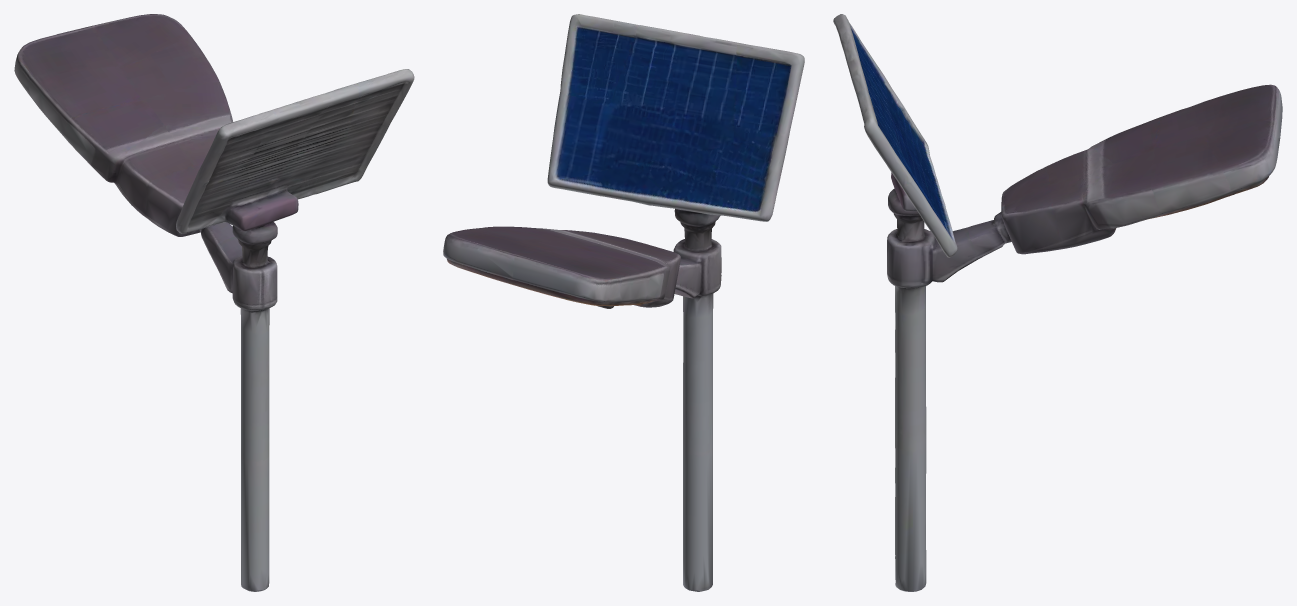
File: solar_streetlight.glb
3 renders of one model, left to right at view 1: azimuth 30°, elevation 25°; view 2: azimuth 150°, elevation 25°; view 3: azimuth 270°, elevation 25°, orthographic. The views are drawn at different scales.
Parts seen in each view (by area): view 1: tripo_node_daec147d-2f19-4ba3-836f-8f9fa24249e4; view 2: tripo_node_daec147d-2f19-4ba3-836f-8f9fa24249e4; view 3: tripo_node_daec147d-2f19-4ba3-836f-8f9fa24249e4.
Part boxes in pixels (box(x1,y1,x2,y2)): tripo_node_daec147d-2f19-4ba3-836f-8f9fa24249e4: box(14, 14, 414, 591); tripo_node_daec147d-2f19-4ba3-836f-8f9fa24249e4: box(443, 14, 804, 591); tripo_node_daec147d-2f19-4ba3-836f-8f9fa24249e4: box(833, 14, 1282, 591).
Bounding box in the file's own units: 0.4293 × 0.9486 × 0.7157.
Materials: 1 (1 with a texture image).
